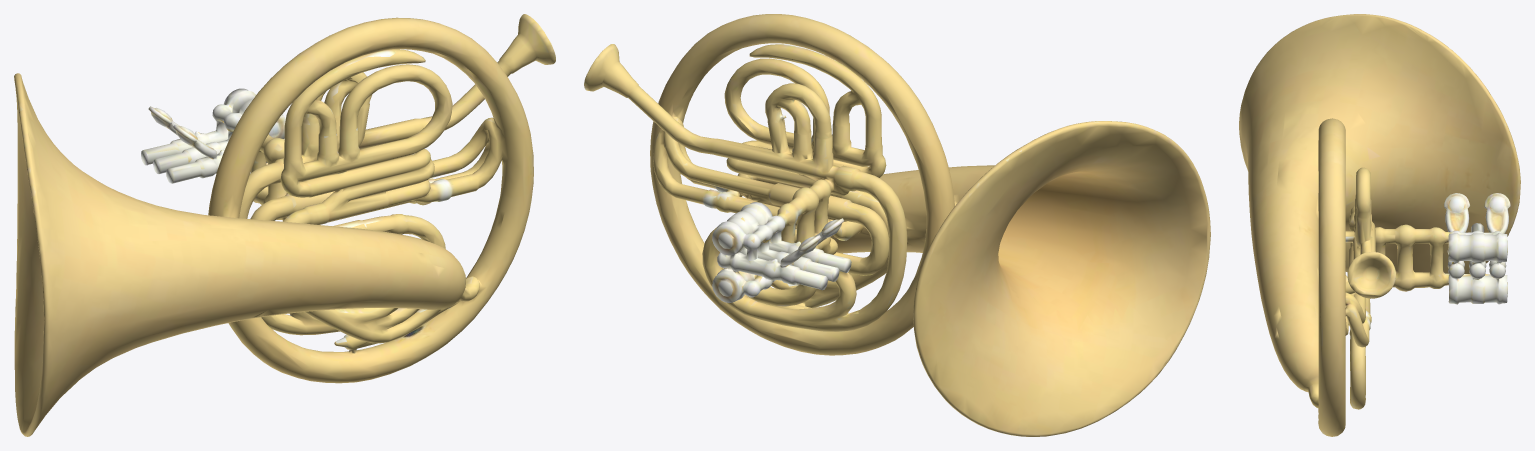
The model's file is horn.glb.
3 renders of one model, left to right at view 1: azimuth 30°, elevation 25°; view 2: azimuth 150°, elevation 25°; view 3: azimuth 270°, elevation 25°, orthographic. The views are drawn at different scales.
Parts seen in each view (by area): view 1: mesh; view 2: mesh; view 3: mesh.
Part boxes in pixels (box(x1,y1,x2,y2)): mesh: box(14, 14, 555, 436); mesh: box(584, 14, 1210, 436); mesh: box(1239, 14, 1520, 436).
Size of the model in its own units: 1 by 0.5837 by 0.5145.
Materials: 1 (1 with a texture image).
